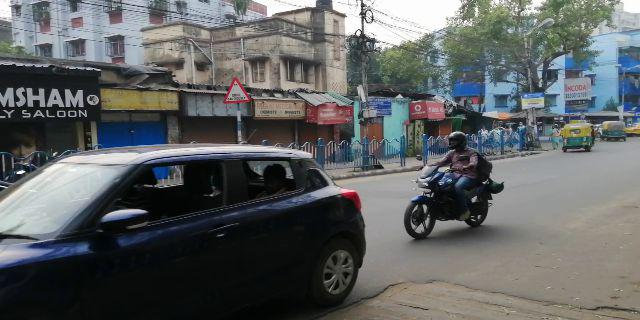Autorickshaw: (562, 125, 598, 153)
Car: (1, 153, 370, 310)
Motorbike: (401, 130, 498, 239)
